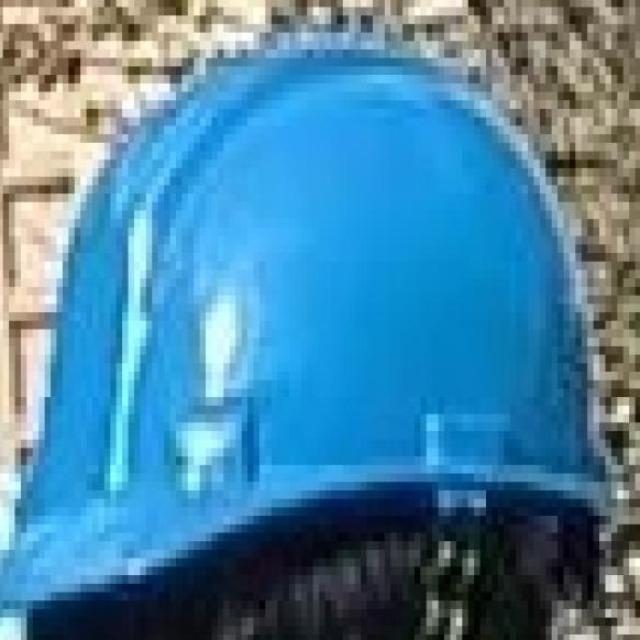helmet: (0, 16, 635, 640)
